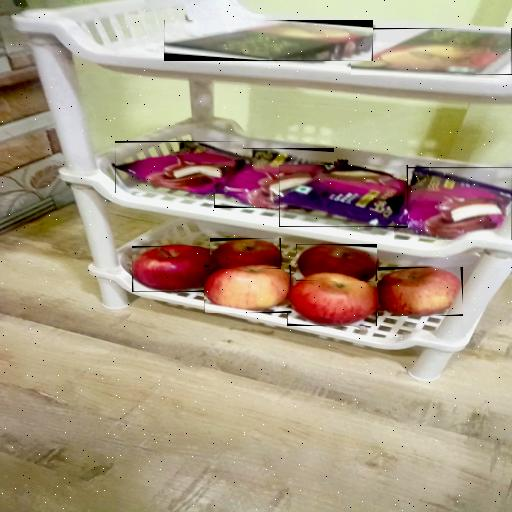Apple: (287, 273, 377, 326), (204, 265, 291, 313), (378, 267, 463, 316), (132, 246, 220, 292), (296, 244, 377, 281), (210, 238, 281, 269)
Choco Fills: (164, 20, 373, 61), (351, 28, 512, 75)
Choco Pie: (394, 167, 512, 240), (280, 165, 408, 227), (214, 148, 334, 208), (115, 142, 243, 193)
